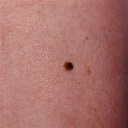Melanoma: (62, 59, 76, 74)
